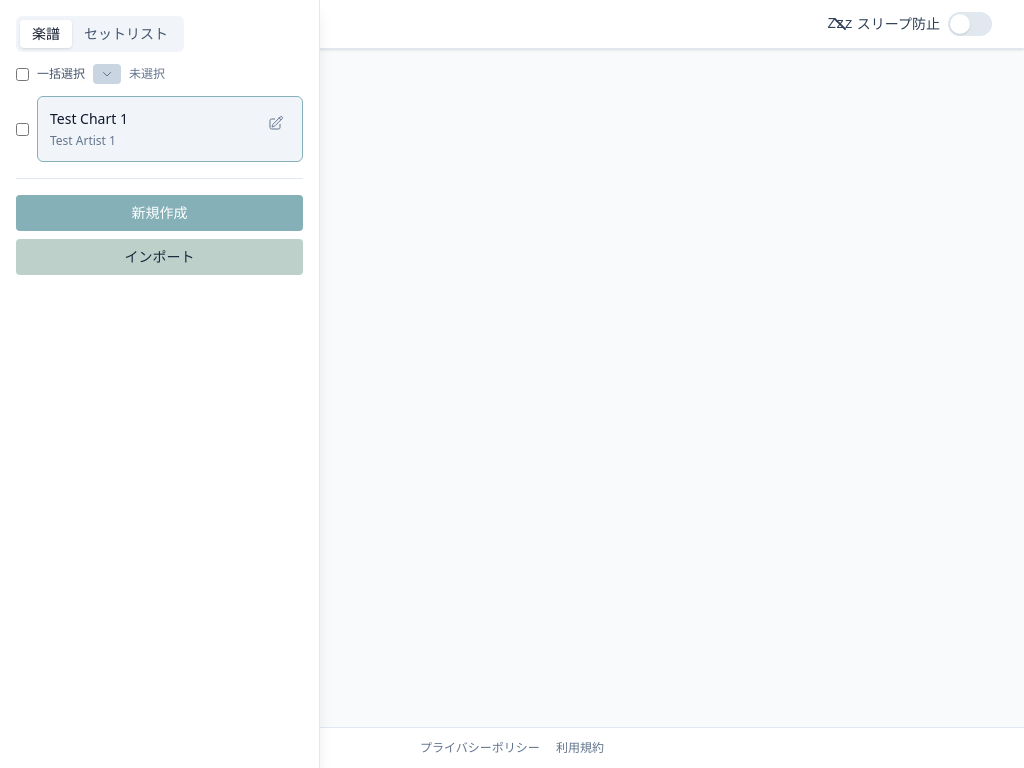
it: MainLayout › should open create form when create new is clicked
This screenshot has width=1024, height=768.
Click the button "新規作成".
click(160, 213)  # box x1=16 y1=195 x2=303 y2=231
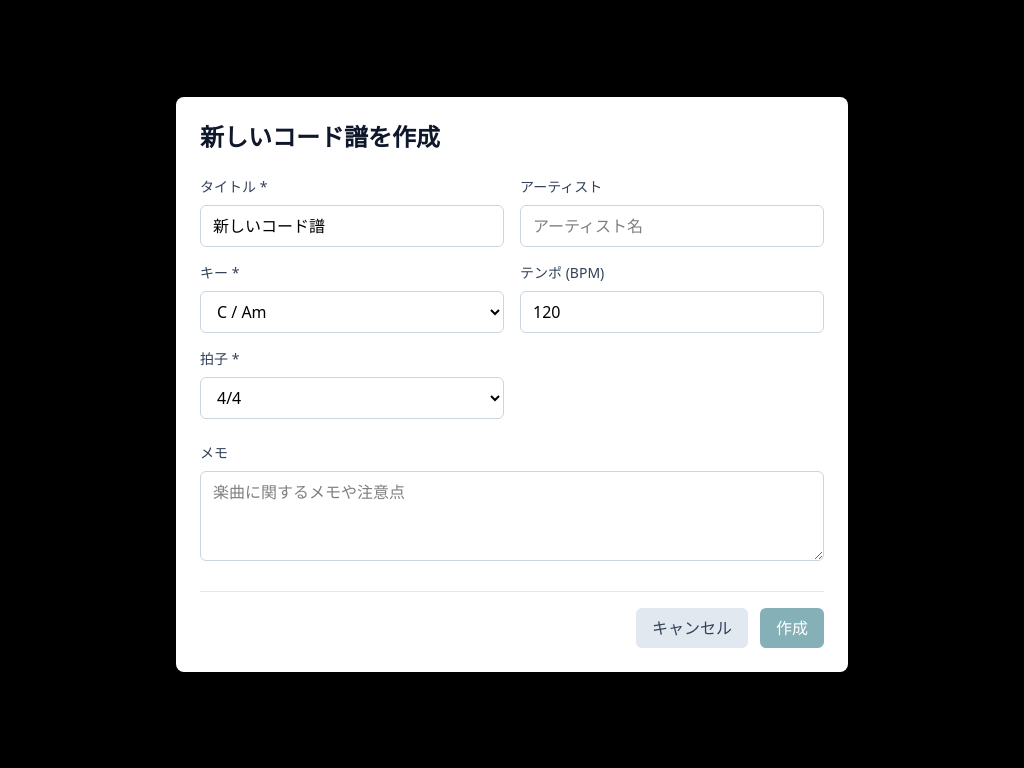
Expected: the form with test id "chord-chart-form" is shown, x1=200 y1=176 x2=824 y2=648
